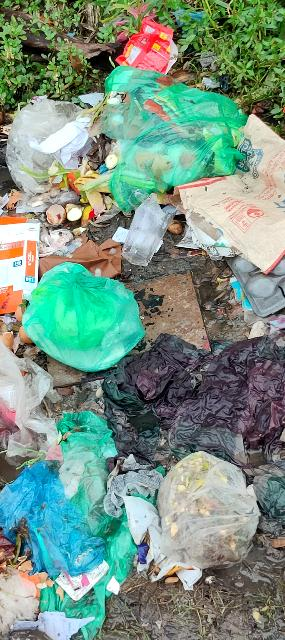polythene: (7, 81, 283, 585)
